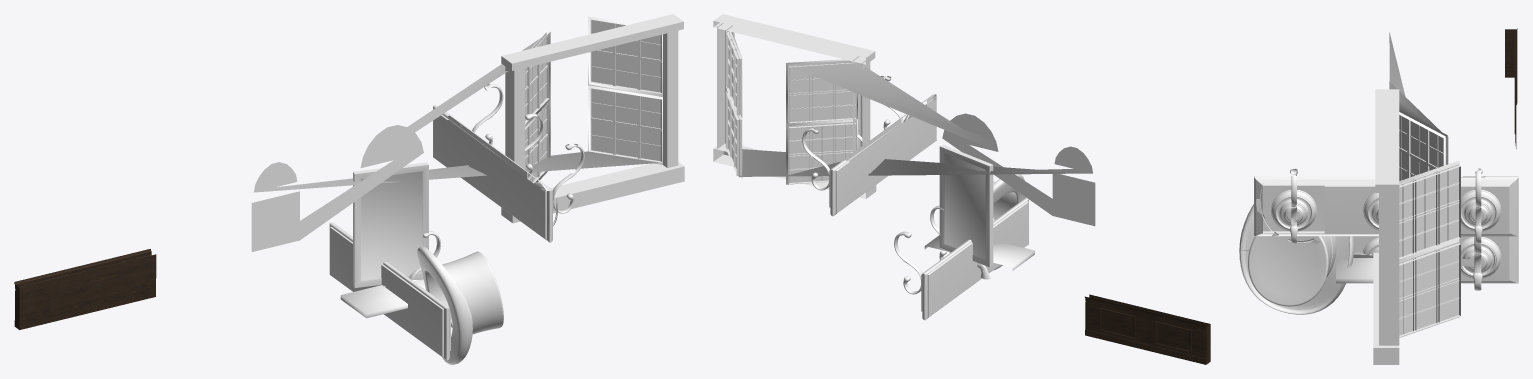
File: WallDecoration.fbx
3 renders of one model, left to right at view 1: azimuth 30°, elevation 25°; view 2: azimuth 150°, elevation 25°; view 3: azimuth 270°, elevation 25°, orthographic. The views are drawn at different scales.
Parts seen in each view (by area): view 1: object_3, Window, object_1, object_1.002, object_0, Walls, object_0.001; view 2: object_3, Window, object_1.002, object_0, Walls, object_0.001, Glass2, object_1, Wainscoting, Glass4; view 3: Window, object_0, object_1, Glass3, Glass1, object_3, object_0.001, object_1.002, Walls.
Part boxes in pixels (x1,y1,x2,y2): object_3: [251, 20, 660, 251]; Window: [501, 14, 684, 223]; object_1: [329, 222, 503, 364]; object_1.002: [340, 162, 428, 318]; object_0: [433, 84, 584, 242]; Walls: [14, 249, 156, 329]; object_0.001: [331, 223, 452, 360]; object_3: [737, 61, 1095, 226]; Window: [713, 14, 876, 198]; object_1.002: [924, 145, 1034, 270]; object_0: [802, 76, 936, 216]; Walls: [1084, 294, 1210, 364]; object_0.001: [896, 198, 1028, 318]; Glass2: [788, 60, 855, 122]; object_1: [894, 174, 1028, 320]; Wainscoting: [1099, 307, 1191, 352]; Glass4: [788, 122, 850, 183]; Window: [1373, 89, 1460, 364]; object_0: [1254, 168, 1518, 244]; object_1: [1239, 204, 1518, 314]; Glass3: [1399, 243, 1460, 337]; Glass1: [1399, 164, 1459, 257]; object_3: [1389, 32, 1459, 263]; object_0.001: [1354, 236, 1513, 290]; object_1.002: [1336, 252, 1373, 283]; Walls: [1505, 28, 1517, 148].
Size of the model in its own units: 1478 by 574 by 519.
